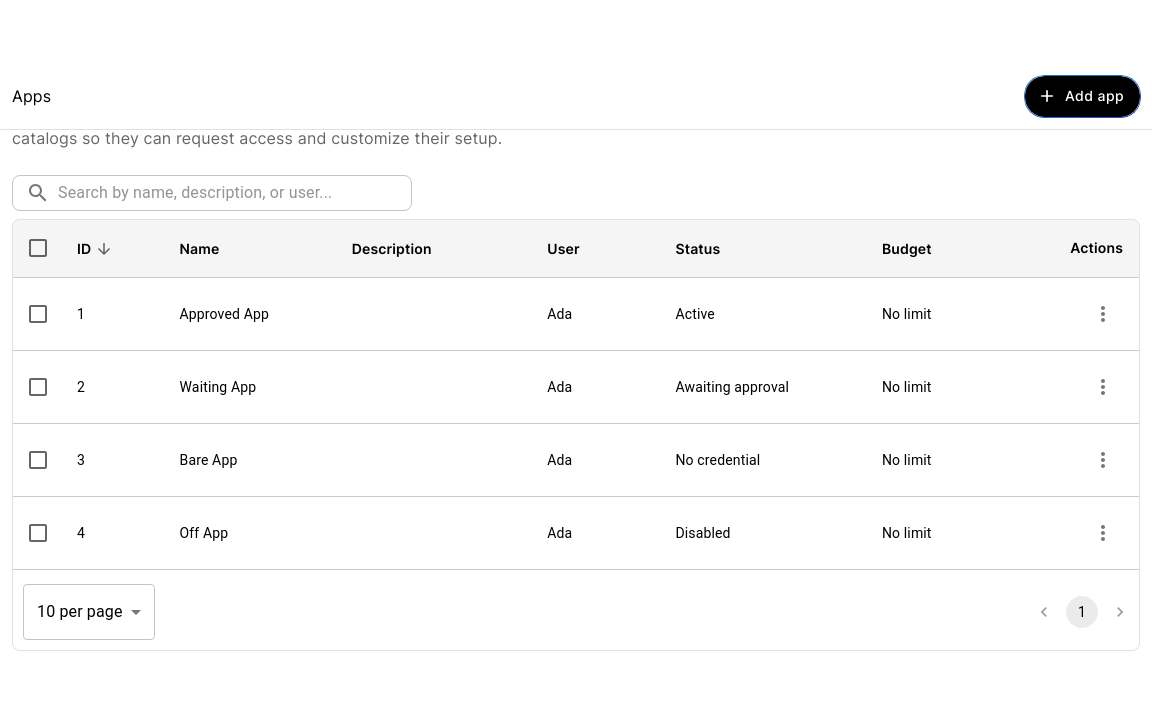
AppList status labels and approval › offers Approve credentials only for apps awaiting approval and activates the credential
expect the text "Awaiting approval" is shown: met, box left=660, top=350, right=866, bottom=423
What coordinates should you click on to do the following:
click the button named "Actions for Waiting App"
I would click on:
 (1103, 387)
Its box is left=1083, top=367, right=1123, bottom=407.
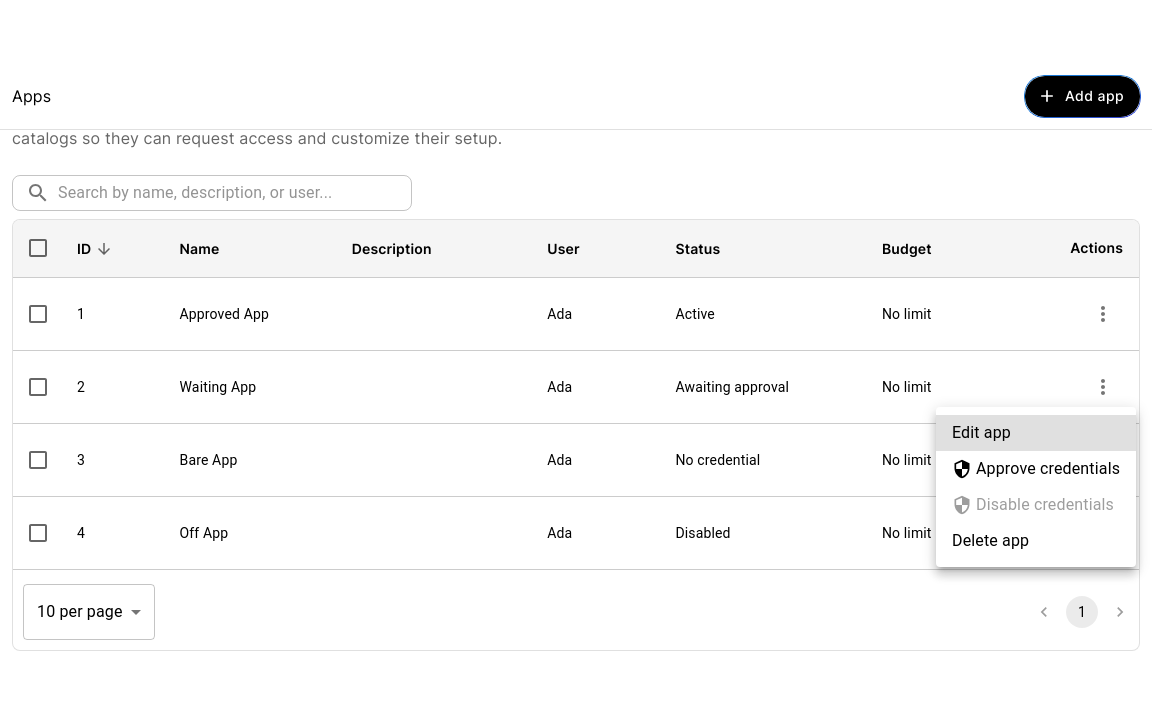
What coordinates should you click on to do the following:
click the menu item "Approve credentials"
I would click on:
 (1036, 469)
Its box is left=952, top=459, right=1120, bottom=479.
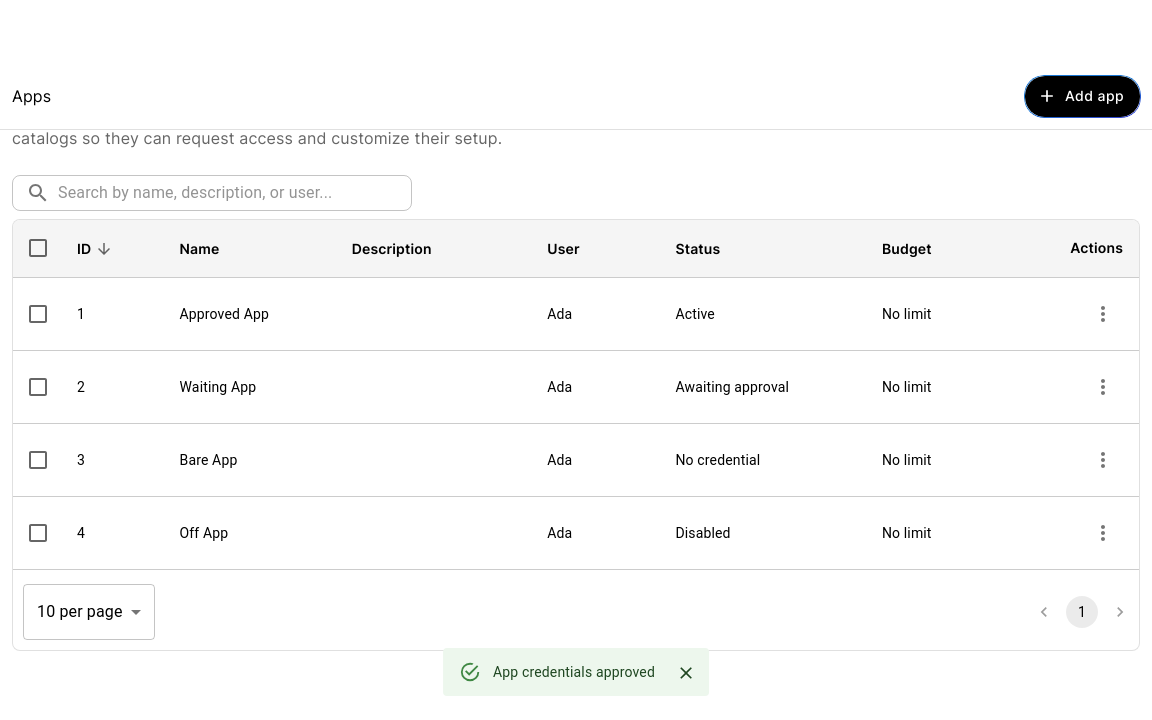
expect the text "App credentials approved" is shown: met, box left=493, top=664, right=655, bottom=680
